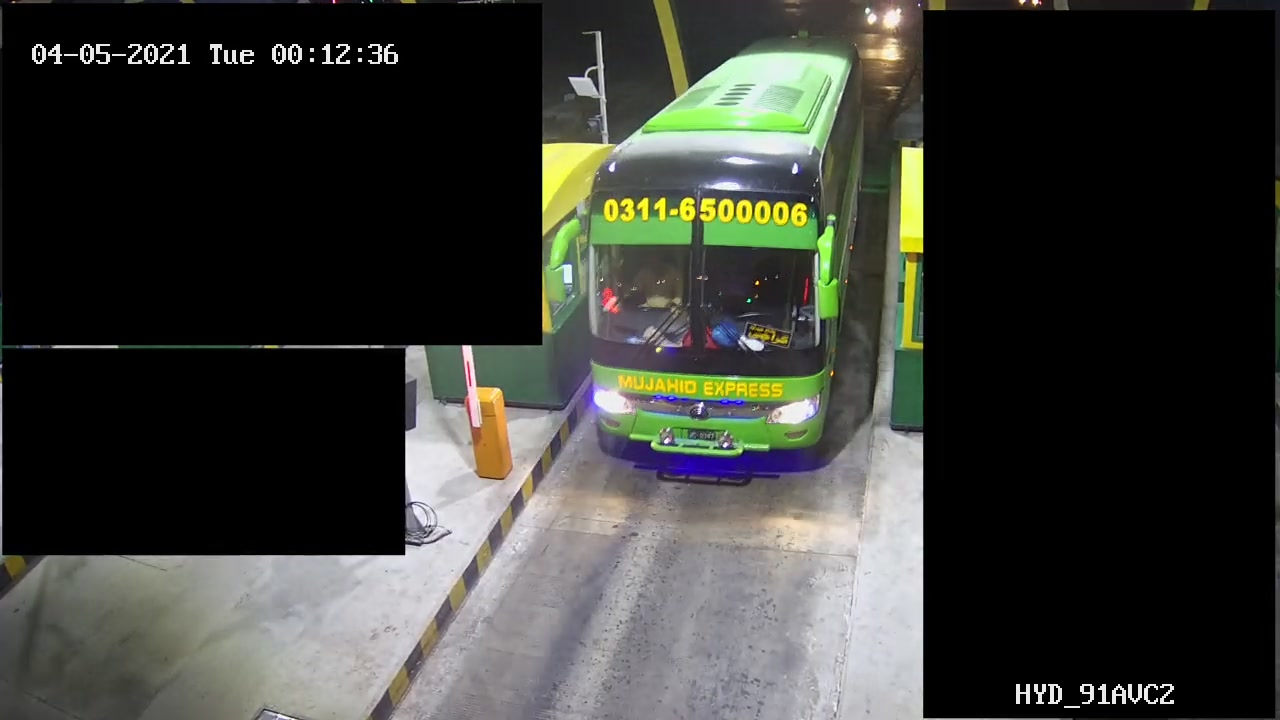F4: (583, 26, 869, 492)
